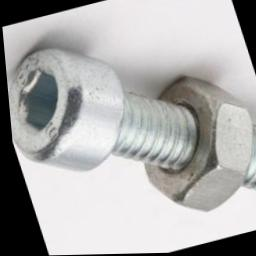Non-Corroded-Nut-and-Bolt: (6, 46, 256, 212)
Non-corroded Nut: (140, 75, 251, 211)
Non-corroded-Bolts: (6, 46, 196, 172), (238, 124, 256, 192)
